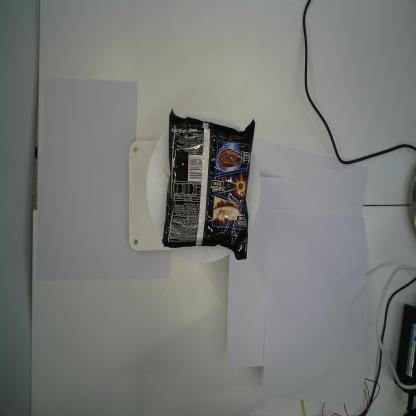Instant Noodles: (157, 107, 256, 263)
